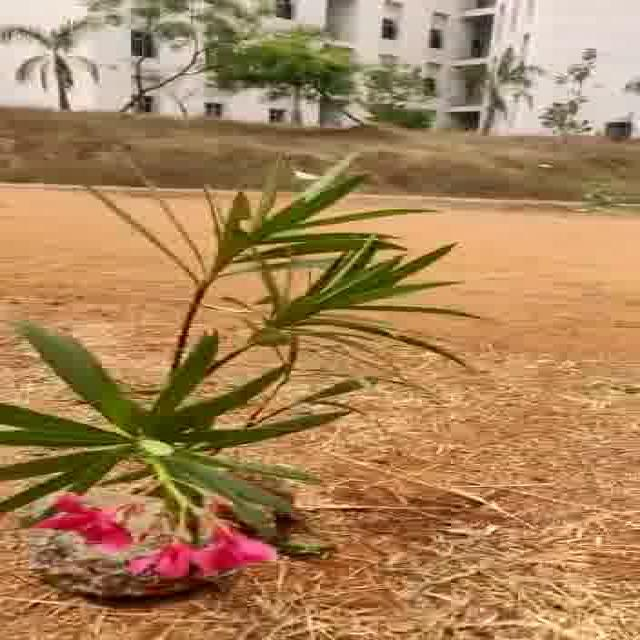Oleander: (0, 173, 465, 553)
